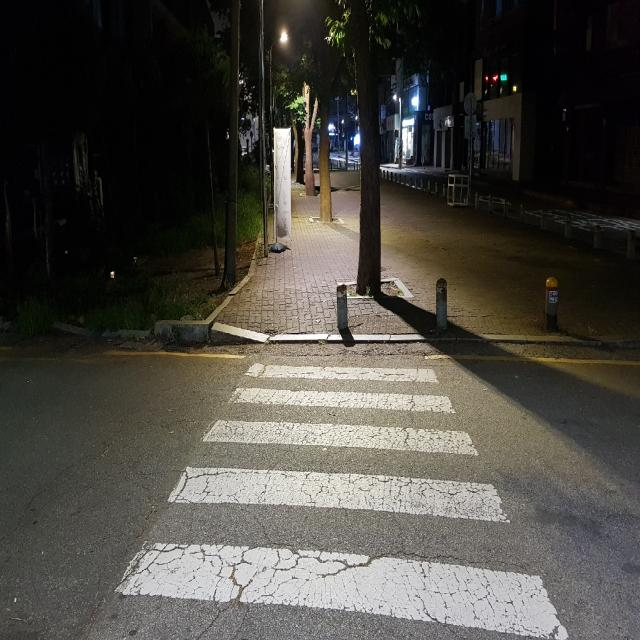횡단보도: (114, 361, 572, 640)
